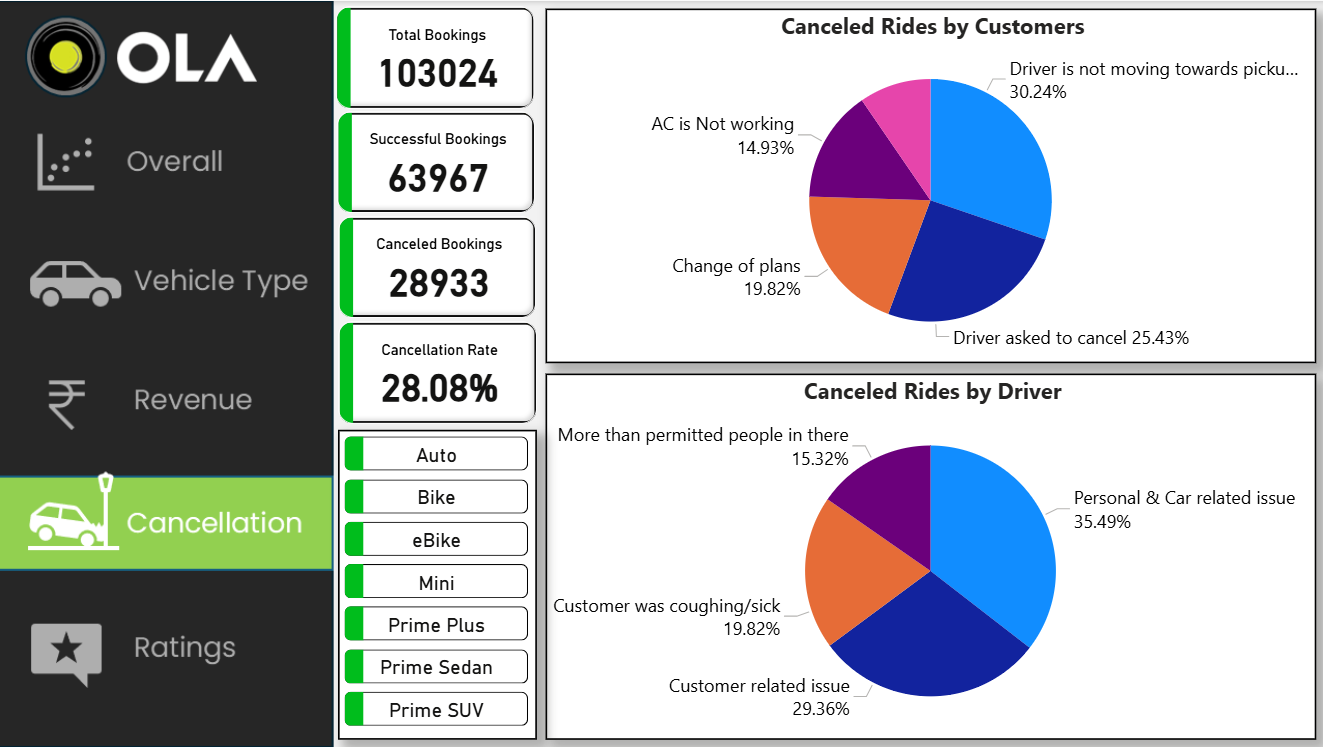

This screenshot's page, from the dashboard's own definition file:
{"tool":"powerbi","page":{"name":"Cancellation","canvas":[1280,720],"ordinal":3},"visuals":[{"type":"actionButton","box":[0,223.2,326.9,91.7],"z":0},{"type":"actionButton","box":[0,343.8,326.9,91.7],"z":1000},{"type":"actionButton","box":[0,113.4,326.9,91.7],"z":2000},{"type":"actionButton","box":[0,580.3,326.9,91.7],"z":3000},{"type":"cardVisual","fields":{"Data":["Bookings.Total Bookings"]},"box":[320.9,0,202,109],"z":4000},{"type":"cardVisual","fields":{"Data":["Bookings.Total Bookings"]},"box":[322.1,101.3,201.5,108.6],"z":5000},{"type":"cardVisual","fields":{"Data":["Bookings.Canceled Bookings"]},"box":[323.3,202.7,201.5,108.6],"z":6000},{"type":"cardVisual","fields":{"Data":["Bookings.Cancellation Rate"]},"box":[323.3,304,202.7,109.8],"z":7000},{"type":"pieChart","title":"Canceled Rides by Customers","fields":{"Y":["CountNonNull(Bookings.Booking_Status)"],"Category":["Bookings.Canceled_Rides_by_Customer"]},"box":[528.4,7.2,744.4,342.6],"z":8000},{"type":"pieChart","title":"Canceled Rides by Driver","fields":{"Category":["Bookings.Canceled_Rides_by_Driver"],"Y":["CountNonNull(Bookings.Booking_Status)"]},"box":[528.4,359.5,744.4,353.5],"z":9000},{"type":"advancedSlicerVisual","fields":{"Values":["Bookings.Vehicle_Type"]},"box":[328.2,413.8,191.8,299.2],"z":9001}]}

Visuals, with their boxes on the page's 1280x720 design canvas (x1, y1, x2, y2). These are canvas units, not pixel positions in the 1323x747 screenshot, which may show the page scaled, cropped or inside an application window:
actionButton: (x1=0, y1=223, x2=327, y2=315)
actionButton: (x1=0, y1=344, x2=327, y2=436)
actionButton: (x1=0, y1=113, x2=327, y2=205)
actionButton: (x1=0, y1=580, x2=327, y2=672)
cardVisual - Bookings.Total Bookings: (x1=321, y1=0, x2=523, y2=109)
cardVisual - Bookings.Total Bookings: (x1=322, y1=101, x2=524, y2=210)
cardVisual - Bookings.Canceled Bookings: (x1=323, y1=203, x2=525, y2=311)
cardVisual - Bookings.Cancellation Rate: (x1=323, y1=304, x2=526, y2=414)
"Canceled Rides by Customers" pieChart: (x1=528, y1=7, x2=1273, y2=350)
"Canceled Rides by Driver" pieChart: (x1=528, y1=360, x2=1273, y2=713)
advancedSlicerVisual - Bookings.Vehicle_Type: (x1=328, y1=414, x2=520, y2=713)
